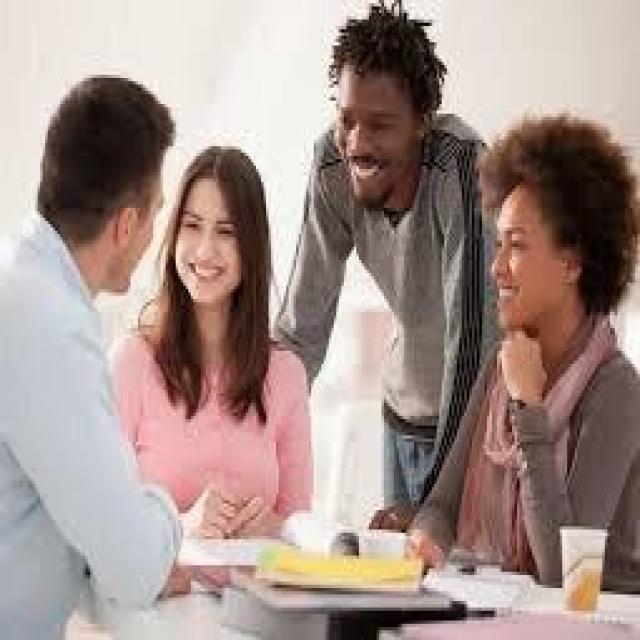person: (266, 3, 499, 611), (5, 61, 183, 636), (444, 97, 638, 575), (121, 123, 306, 572)
